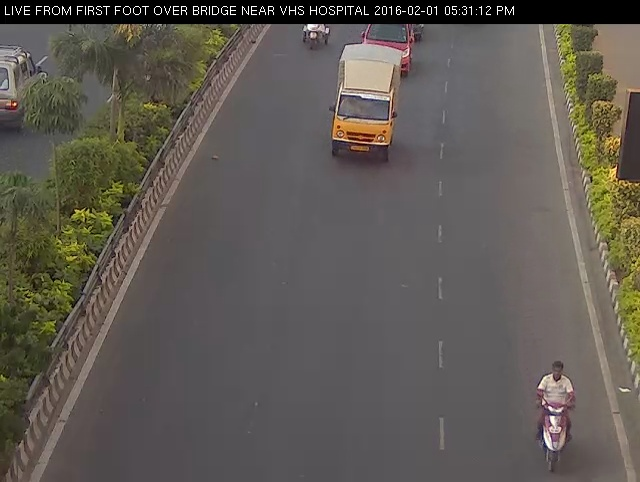Auto: (319, 41, 411, 170)
Car: (343, 2, 422, 81), (346, 5, 422, 80), (386, 2, 427, 46)
Person: (523, 356, 583, 470), (294, 16, 339, 56)
